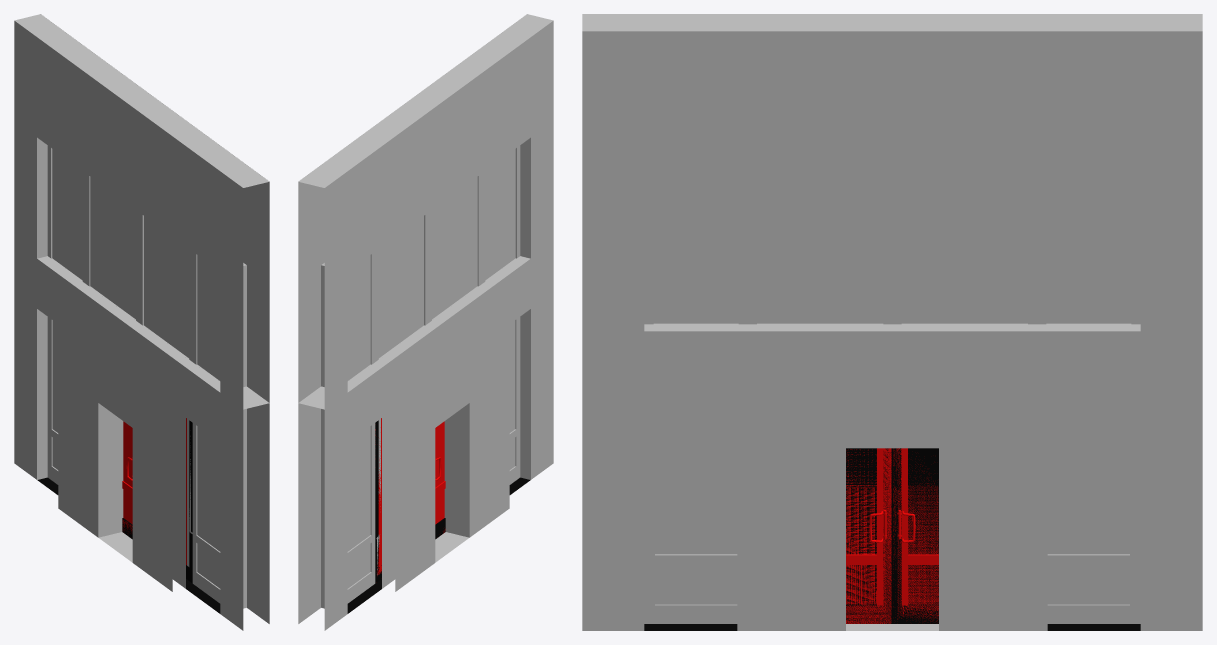
Rendered from Doors_PackII_Exterior_All.fbx.
The picture shows the model from 3 angles, left to right: view 1: azimuth 30°, elevation 25°; view 2: azimuth 150°, elevation 25°; view 3: azimuth 270°, elevation 25°; orthographic projection. The views are drawn at different scales.
Visible parts, largest first — view 1: Door02_Central, SimpleDoor_room, Door02_Expend_R, Door01_Exterior_Central, Door02_Expend_L, SimpleDoor_01, Door02_Mid_Ground, Door_L_1; view 2: Door02_Central, SimpleDoor_room, Door01_Exterior_Central, Door02_Expend_L, Door02_Expend_R, SimpleDoor_01, Door02_Mid_Ground, Door_R_1, Door02_Mid_WhithoutGround; view 3: Door02_Central, SimpleDoor_room, Door01_Exterior_Central, Door02_Expend_L, Door02_Expend_R, Door02_Mid_WhithoutGround, Door_R_1, Door_L_1, Door02_Mid_Ground, Door_R, Door_L.
Part boxes in pixels (<box>): Door02_Central: <box>14,14,269,629</box>; SimpleDoor_room: <box>58,301,172,591</box>; Door02_Expend_R: <box>37,256,269,630</box>; Door01_Exterior_Central: <box>14,244,269,621</box>; Door02_Expend_L: <box>14,242,58,484</box>; SimpleDoor_01: <box>71,284,185,588</box>; Door02_Mid_Ground: <box>37,421,220,613</box>; Door_L_1: <box>122,421,132,533</box>; Door02_Central: <box>298,14,553,629</box>; SimpleDoor_room: <box>395,301,509,591</box>; Door01_Exterior_Central: <box>298,245,553,628</box>; Door02_Expend_L: <box>298,393,375,630</box>; Door02_Expend_R: <box>347,242,553,484</box>; SimpleDoor_01: <box>382,285,496,588</box>; Door02_Mid_Ground: <box>347,421,530,613</box>; Door_R_1: <box>435,421,445,533</box>; Door02_Mid_WhithoutGround: <box>375,420,445,577</box>; Door02_Central: <box>582,14,1202,630</box>; SimpleDoor_room: <box>737,324,1047,630</box>; Door01_Exterior_Central: <box>582,324,1200,630</box>; Door02_Expend_L: <box>1047,331,1202,630</box>; Door02_Expend_R: <box>582,399,737,630</box>; Door02_Mid_WhithoutGround: <box>846,448,938,623</box>; Door_R_1: <box>846,448,891,623</box>; Door_L_1: <box>893,448,938,621</box>; Door02_Mid_Ground: <box>644,605,1140,630</box>; Door_R: <box>846,491,890,623</box>; Door_L: <box>893,459,938,621</box>.
Bounding box in the file's own units: 60 × 640 × 600.
